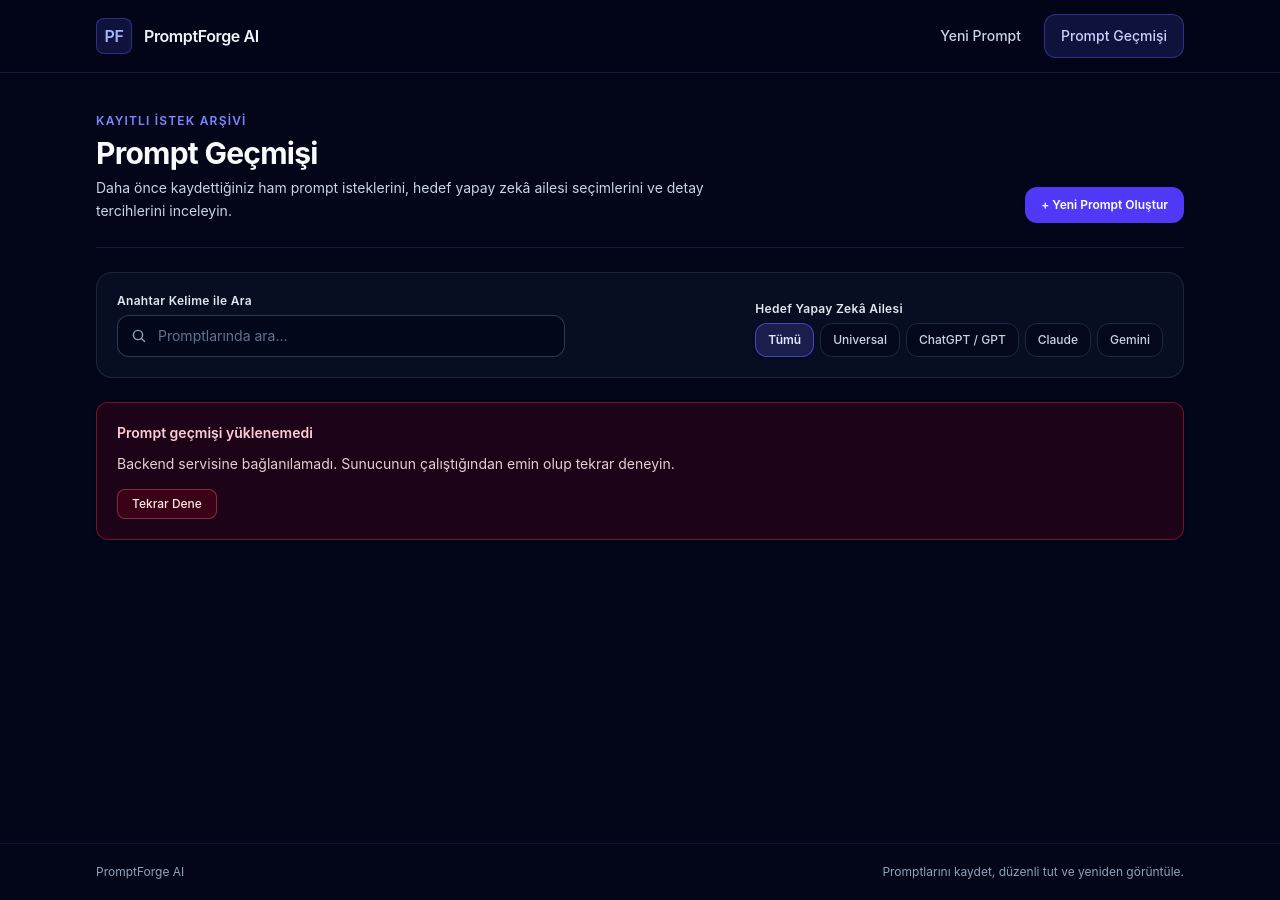
Prompt history, server-side pagination, and navigation (Milestone 4B-1) › displays understandable Turkish feedback on network errors and recovers via Tekrar Dene
Expected: the message shows "Prompt geçmişi yüklenemedi", x1=117 y1=424 x2=313 y2=440
Expected: the message shows "Backend servisine bağlanılamadı", x1=117 y1=454 x2=675 y2=472
Click the button "Tekrar Dene": (167, 504) x1=117 y1=489 x2=217 y2=519
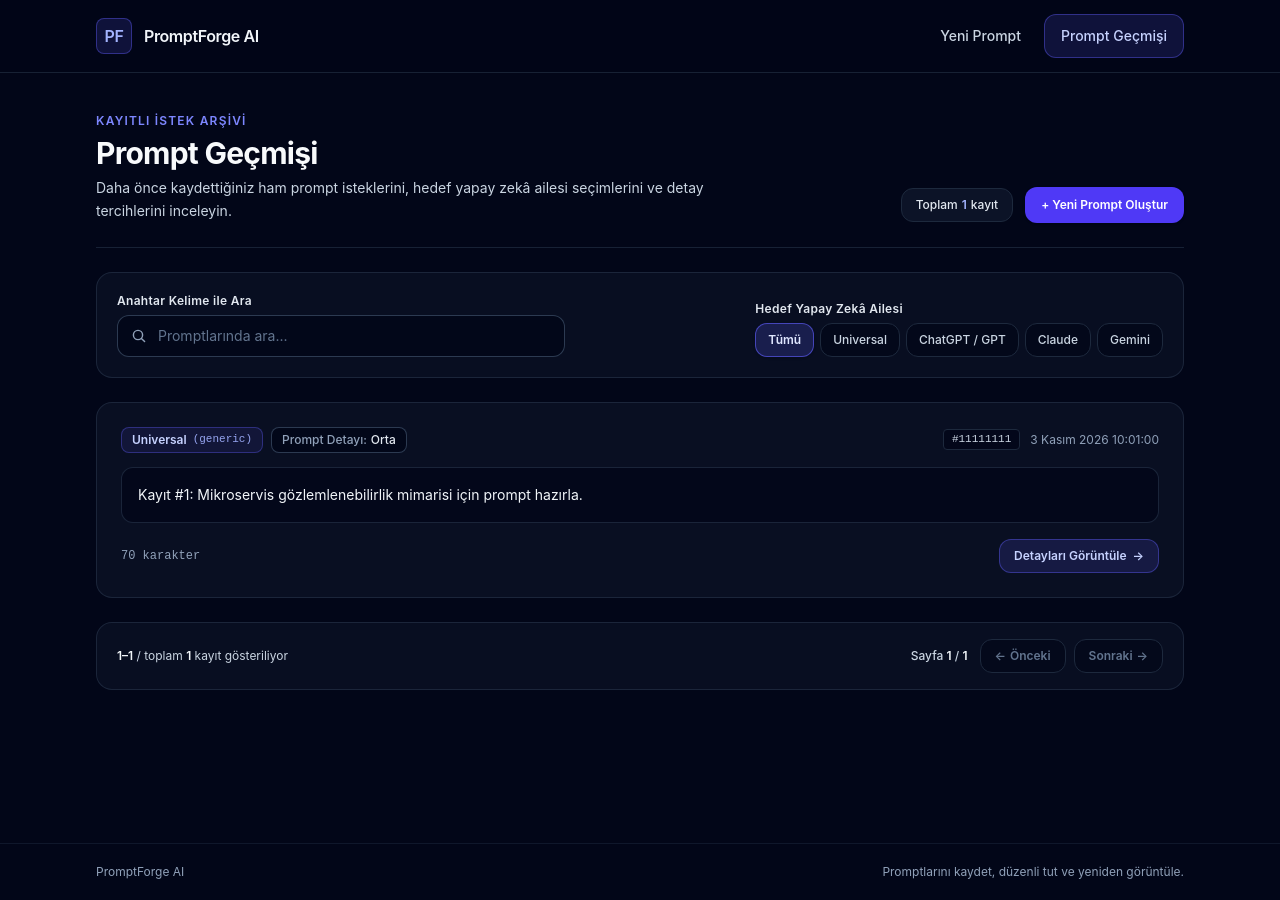
Expected: the list named "Kaydedilen prompt istekleri listesi" is shown, x1=96 y1=402 x2=1184 y2=598
Expected: the text "Kayıt #1:" is shown, x1=138 y1=486 x2=583 y2=502
